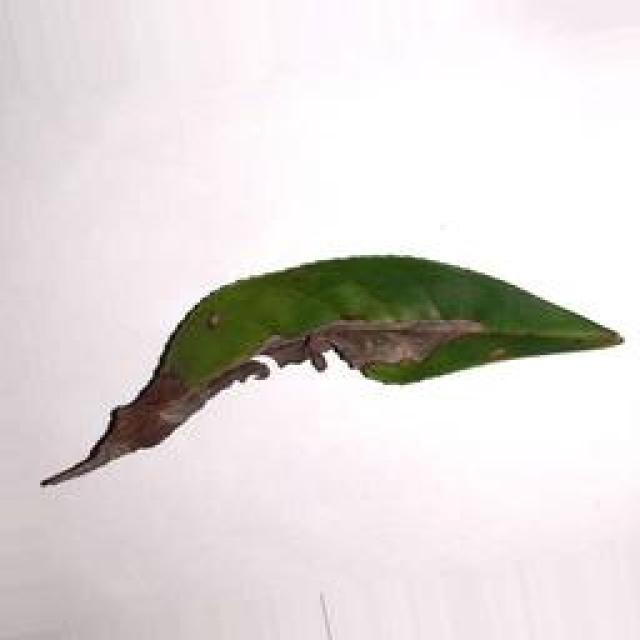Brown Blight: (48, 246, 640, 488)
